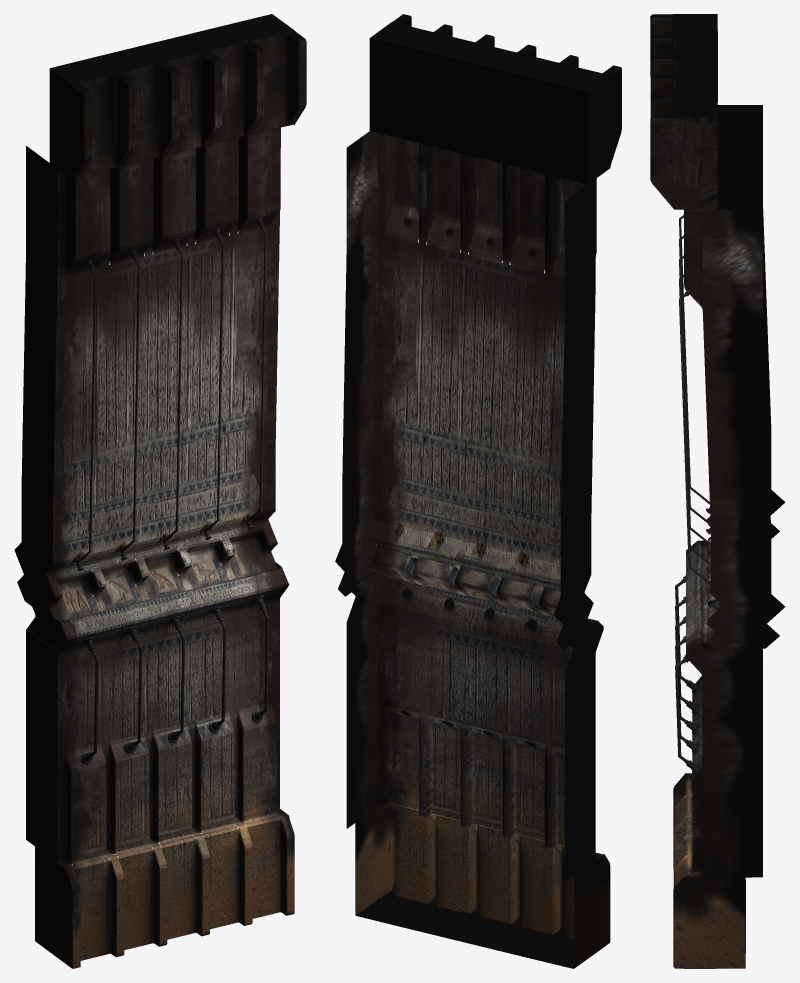
The model's file is door.glb.
3 views of the same model, side by side, from view 1: azimuth 30°, elevation 25°; view 2: azimuth 150°, elevation 25°; view 3: azimuth 270°, elevation 25° (orthographic). The views are drawn at different scales.
Visible parts, largest first — view 1: closed door, lines; view 2: closed door; view 3: closed door, lines.
Part boxes in pixels (left/top/right/bottom): closed door: left=14, top=14, right=306, bottom=968; lines: left=76, top=218, right=269, bottom=764; closed door: left=335, top=14, right=621, bottom=968; closed door: left=650, top=14, right=785, bottom=968; lines: left=675, top=214, right=710, bottom=773.
Size of the model in its own units: 229 by 868 by 125.
Materials: 2 (2 with a texture image).
